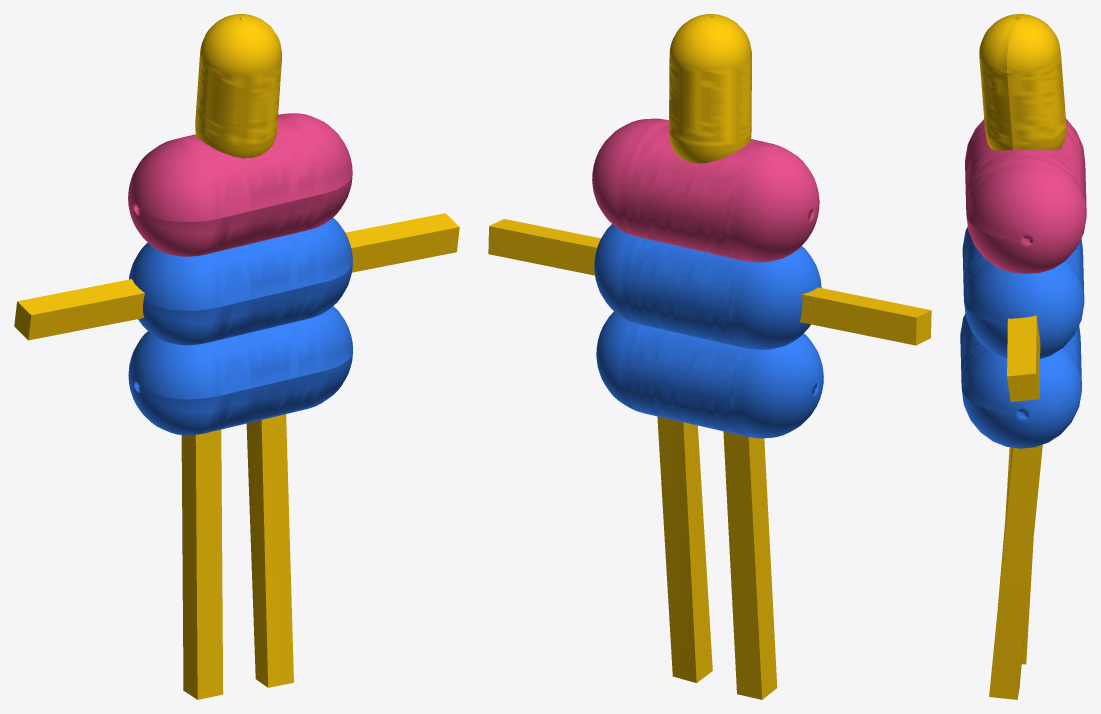
Rendered from VoorBavo.fbx.
The picture shows the model from 3 angles, left to right: view 1: azimuth 30°, elevation 25°; view 2: azimuth 150°, elevation 25°; view 3: azimuth 270°, elevation 25°; orthographic projection.
Parts seen in each view (by area): view 1: s.db70ead3-e687-4d9f-b7f9-5086bdefa87d; view 2: s.db70ead3-e687-4d9f-b7f9-5086bdefa87d; view 3: s.db70ead3-e687-4d9f-b7f9-5086bdefa87d.
Boxes of the visible parts, x1=… form: s.db70ead3-e687-4d9f-b7f9-5086bdefa87d: x1=14, y1=14, x2=459, y2=699; s.db70ead3-e687-4d9f-b7f9-5086bdefa87d: x1=488, y1=14, x2=931, y2=699; s.db70ead3-e687-4d9f-b7f9-5086bdefa87d: x1=960, y1=14, x2=1086, y2=699.
Size of the model in its own units: 205 by 304 by 52.47.
